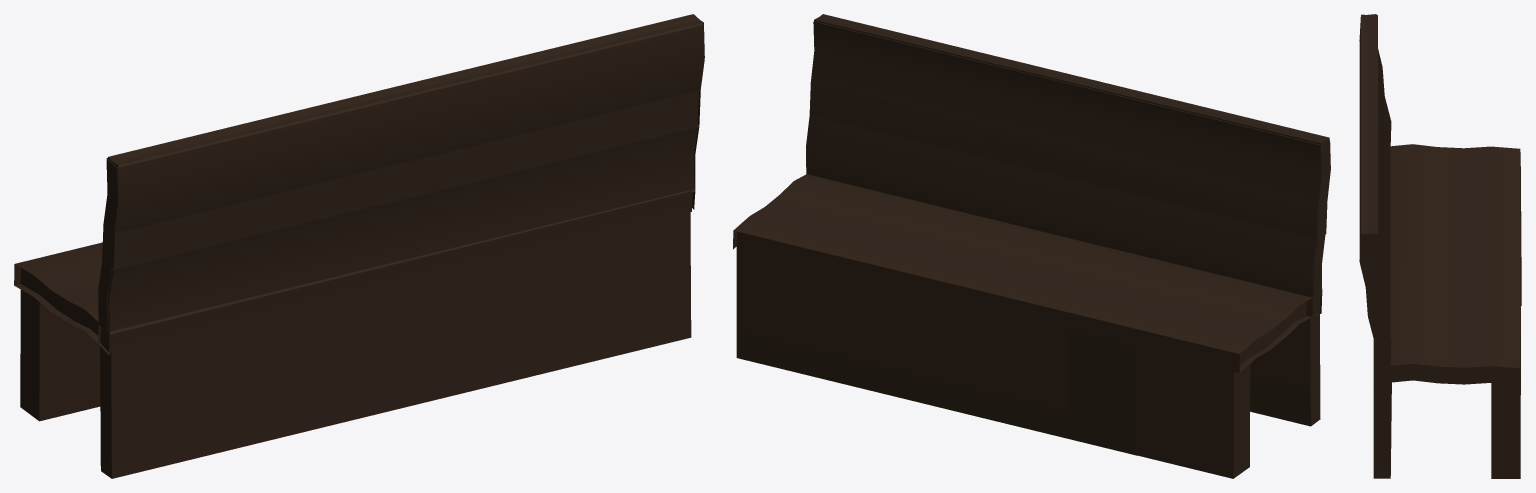
Rendered from Bank.fbx.
3 views of the same model, side by side, from view 1: azimuth 30°, elevation 25°; view 2: azimuth 150°, elevation 25°; view 3: azimuth 270°, elevation 25° (orthographic). The views are drawn at different scales.
Parts seen in each view (by area): view 1: Fläche; view 2: Fläche; view 3: Fläche.
Boxes of the visible parts, x1,y1,x2,y2 form: Fläche: [14, 14, 704, 478]; Fläche: [733, 14, 1330, 478]; Fläche: [1359, 14, 1521, 478].
Bounding box in the file's own units: 846 × 443 × 263.
